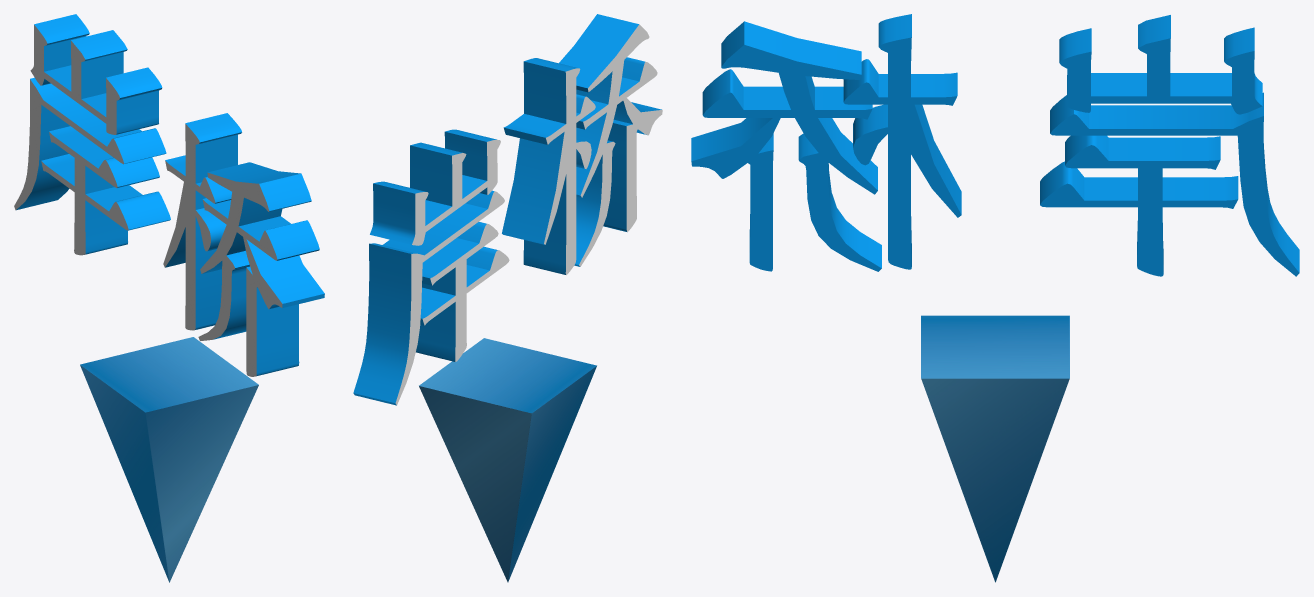
Rendered from Text_AnQiao.FBX.
3 renders of one model, left to right at view 1: azimuth 30°, elevation 25°; view 2: azimuth 150°, elevation 25°; view 3: azimuth 270°, elevation 25°, orthographic. The views are drawn at different scales.
Visible parts, largest first — view 1: Text_AnQiao; view 2: Text_AnQiao; view 3: Text_AnQiao.
Part boxes in pixels (x1,y1,x2,y2): Text_AnQiao: (14,14,324,582); Text_AnQiao: (353,14,662,582); Text_AnQiao: (691,14,1299,582).
Size of the model in its own units: 4697 by 19415 by 19204.
